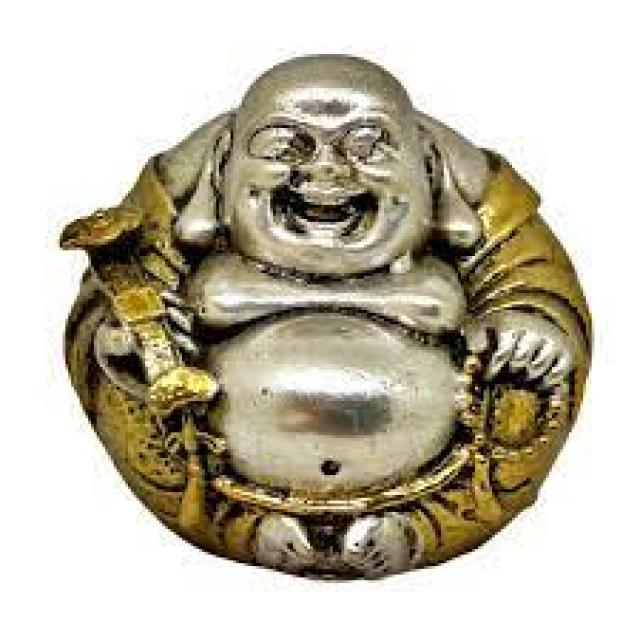Smiling Buddha: (129, 58, 519, 532)
